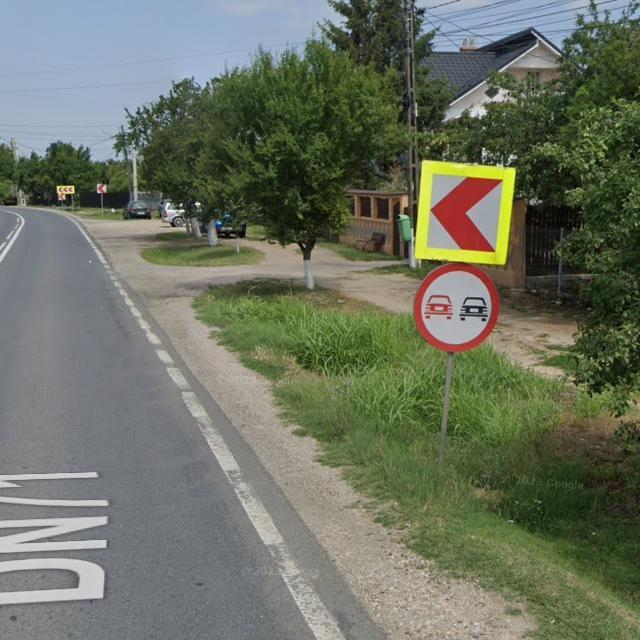forb_overtake: (413, 265, 500, 353)
